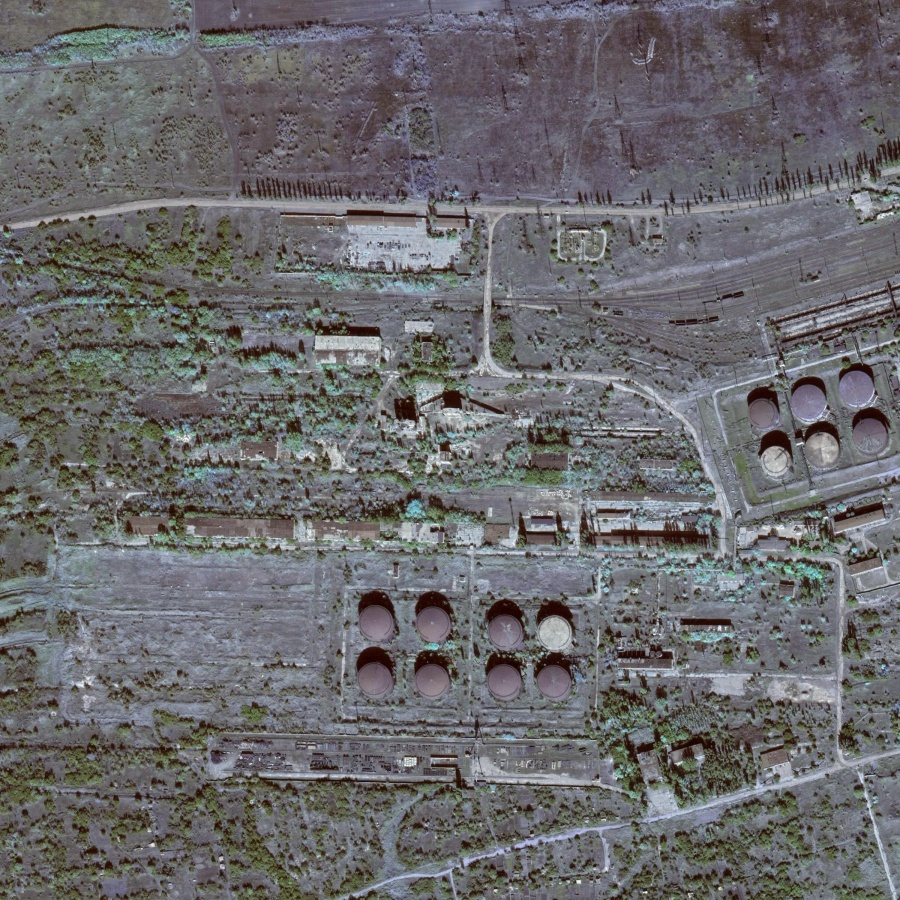PowerPlant: (323, 551, 593, 729)
